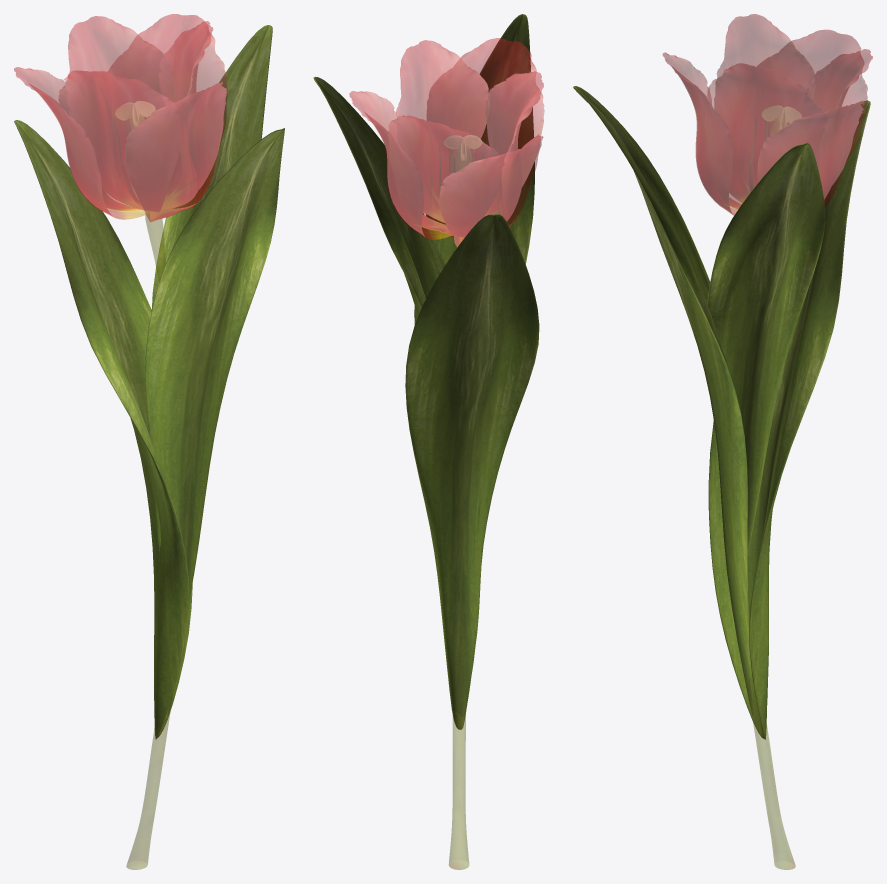
Rendered from tulip.glb.
3 views of the same model, side by side, from view 1: azimuth 30°, elevation 25°; view 2: azimuth 150°, elevation 25°; view 3: azimuth 270°, elevation 25° (orthographic). The views are drawn at different scales.
Parts seen in each view (by area): view 1: 12978_tulip_flower_l3; view 2: 12978_tulip_flower_l3; view 3: 12978_tulip_flower_l3.
Boxes of the visible parts, x1=… form: 12978_tulip_flower_l3: x1=14, y1=14, x2=284, y2=869; 12978_tulip_flower_l3: x1=313, y1=14, x2=544, y2=869; 12978_tulip_flower_l3: x1=573, y1=14, x2=872, y2=869.
Size of the model in its own units: 5.09 by 16.85 by 5.52.
3 materials, 3 textured.
